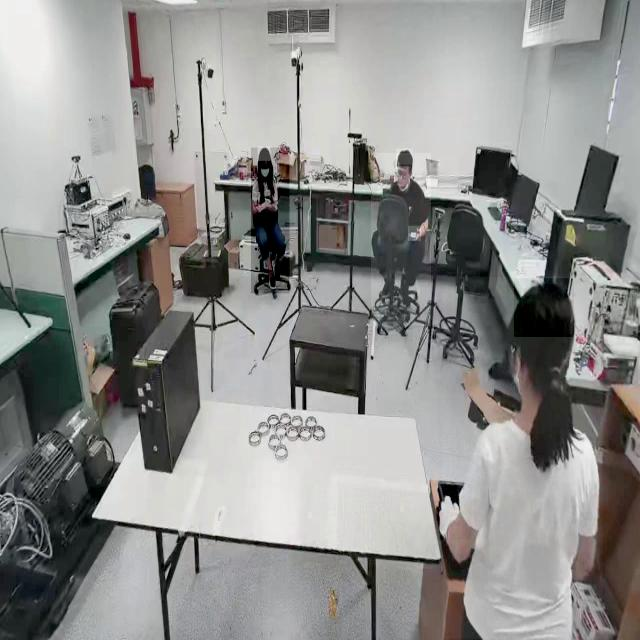face_mask: (257, 162, 273, 186)
face_nomask: (396, 166, 410, 187)
hand_glove: (434, 484, 472, 540)
hand_noglove: (408, 226, 422, 242)
head_nohelmet: (514, 278, 574, 338), (397, 148, 413, 166), (257, 146, 271, 162)
person: (443, 277, 603, 639), (371, 153, 431, 327), (251, 148, 290, 294)
shoes: (376, 268, 392, 302), (266, 266, 278, 292)
